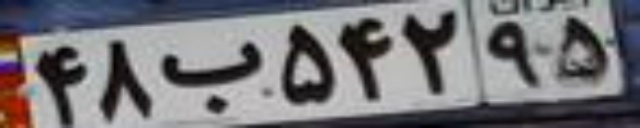2: (400, 8, 461, 95)
4: (339, 16, 393, 101), (34, 44, 85, 125)
5: (279, 24, 338, 105), (554, 14, 614, 86)
8: (93, 40, 155, 120)
9: (487, 20, 541, 88)
be: (159, 40, 264, 114)
